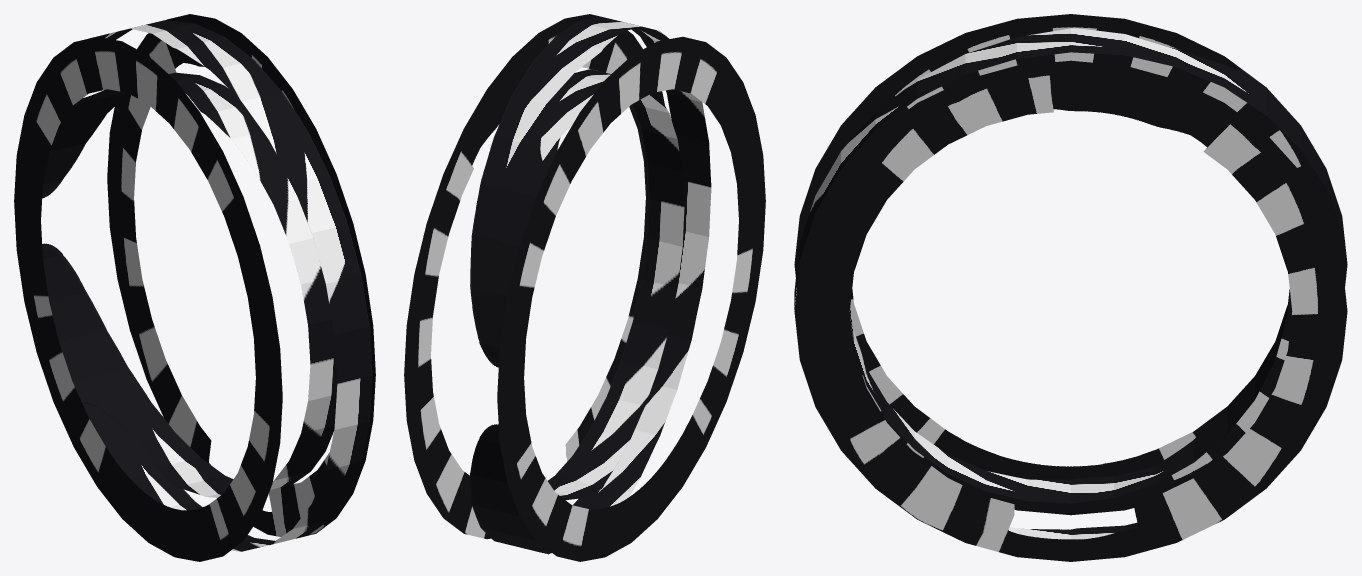
The model's file is racing_hoop2.dae.
3 renders of one model, left to right at view 1: azimuth 30°, elevation 25°; view 2: azimuth 150°, elevation 25°; view 3: azimuth 270°, elevation 25°, orthographic. The views are drawn at different scales.
Parts seen in each view (by area): view 1: Cylinder; view 2: Cylinder; view 3: Cylinder.
Part boxes in pixels (x1=…): Cylinder: x1=14, y1=14, x2=375, y2=561; Cylinder: x1=404, y1=14, x2=765, y2=561; Cylinder: x1=794, y1=14, x2=1347, y2=561.
Size of the model in its own units: 0.4 by 2 by 2.
Materials: 1 (1 with a texture image).
